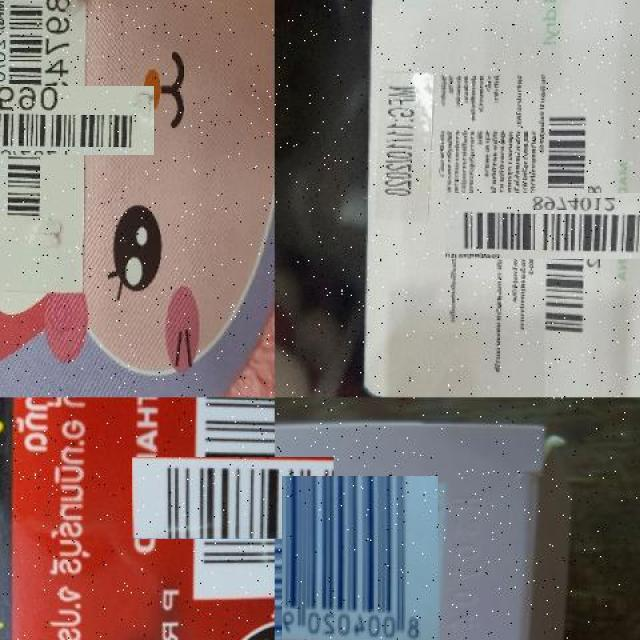Barcode: (278, 480, 442, 640), (491, 145, 640, 306), (162, 427, 305, 569), (0, 43, 111, 198)
